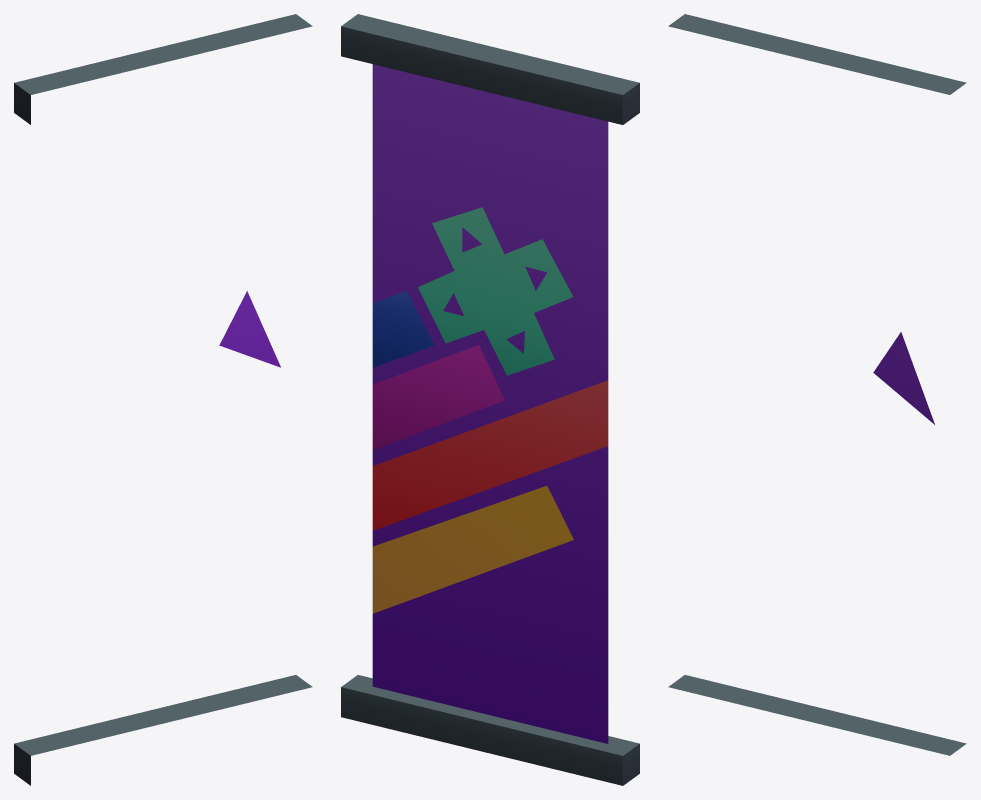
File: 1.100_SanFrancisco_extra_13.glb
The picture shows the model from 3 angles, left to right: view 1: azimuth 30°, elevation 25°; view 2: azimuth 150°, elevation 25°; view 3: azimuth 330°, elevation 25°; orthographic projection.
Visible parts, largest first — view 1: 1.100_SanFrancisco_extra_13; view 2: 1.100_SanFrancisco_extra_13; view 3: 1.100_SanFrancisco_extra_13.
Part boxes in pixels (bbox=[...]): 1.100_SanFrancisco_extra_13: bbox=[14, 14, 312, 785]; 1.100_SanFrancisco_extra_13: bbox=[341, 14, 639, 785]; 1.100_SanFrancisco_extra_13: bbox=[668, 14, 966, 755].
Size of the model in its own units: 16.77 by 39.25 by 1.74.
Materials: 1 (1 with a texture image).
